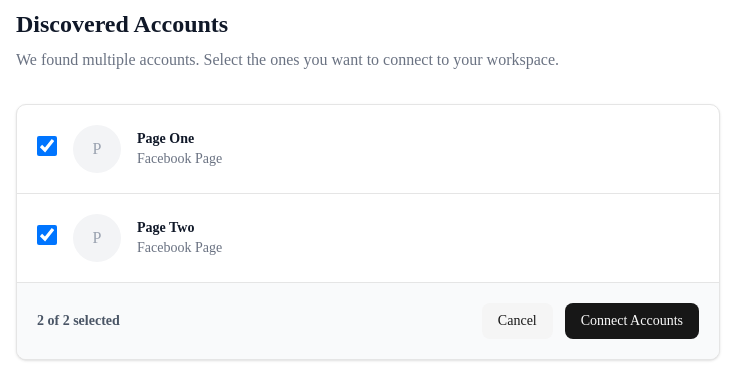
Test: DiscoveryClientPage › 6/7/8. selection toggles, count updates, disables submit if none
The width and height of the screenshot is (737, 378).
Expected: the text "Page One" is shown, [137, 131, 194, 146]
Expected: the text "2 of 2 selected" is shown, [37, 313, 120, 328]
Note: Toggle off p1
Click the checkbox labelled "P Page One Facebook Page". click: click(47, 146)
box: [37, 136, 57, 156]
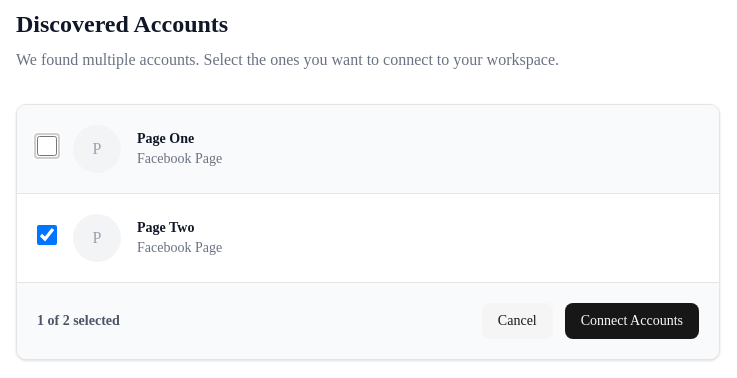
Expected: the button "Connect Accounts" is enabled, [565, 303, 699, 339]
Expected: the text "1 of 2 selected" is shown, [37, 313, 120, 328]
Note: Toggle off p2
Click the checkbox labelled "P Page Two Facebook Page". click: click(47, 234)
box: [37, 224, 57, 244]
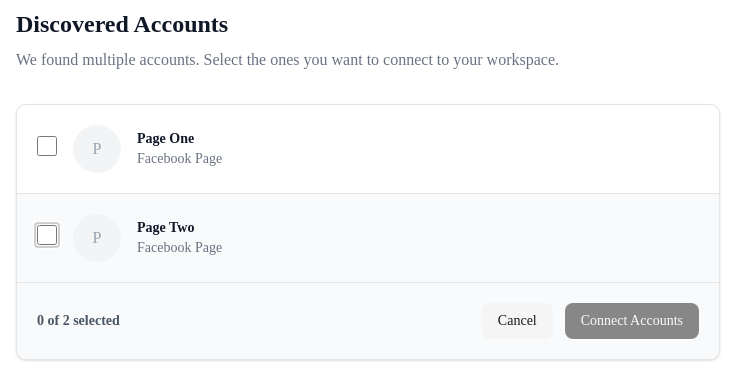
Expected: the text "0 of 2 selected" is shown, [37, 313, 120, 328]
Expected: the button "Connect Accounts" is disabled, [565, 303, 699, 339]
